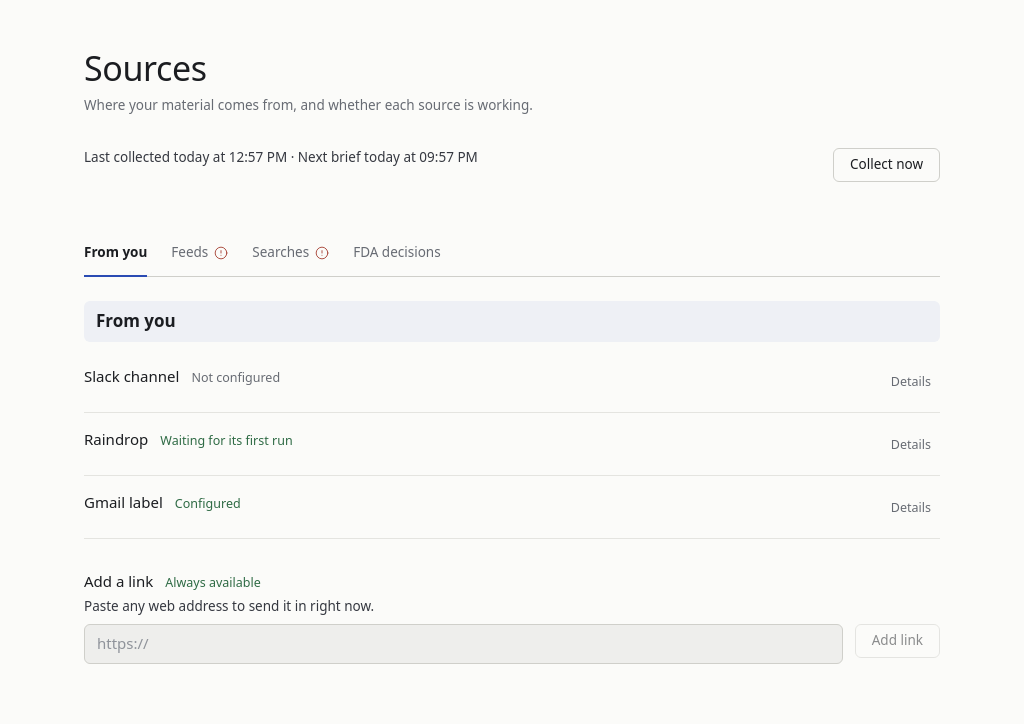
Test: SourcesPage › replaces the working feeds by one line of counts and lists them on request
Step 1. Click the tab "Feeds" → (200, 254), box [171, 231, 228, 277]
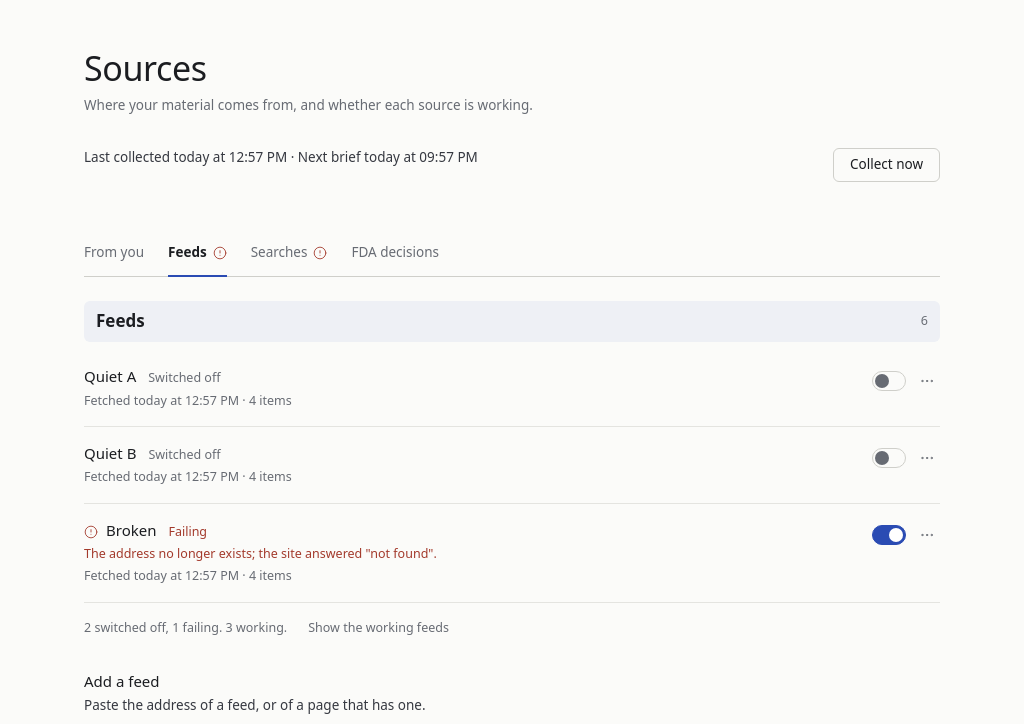
Result: the text "2 switched off, 1 failing. 3 working." is shown at [84, 620, 287, 638]
Result: the text "Broken" is shown at [84, 520, 156, 541]
Result: the text "Quiet A" is shown at [84, 366, 136, 388]
Step 2. Click the button "Show the working feeds" → (379, 628), box [299, 614, 458, 642]
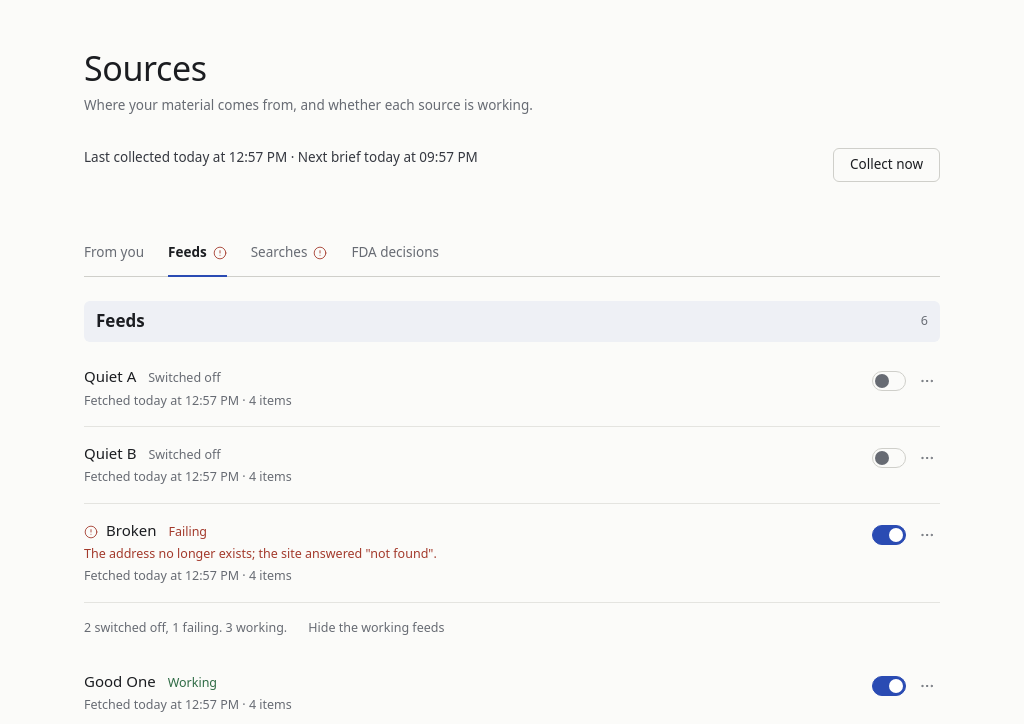
Result: the text "Good One" is shown at [84, 670, 156, 692]
Step 3. Click the button "Hide the working feeds" → (376, 628), box [299, 614, 453, 642]
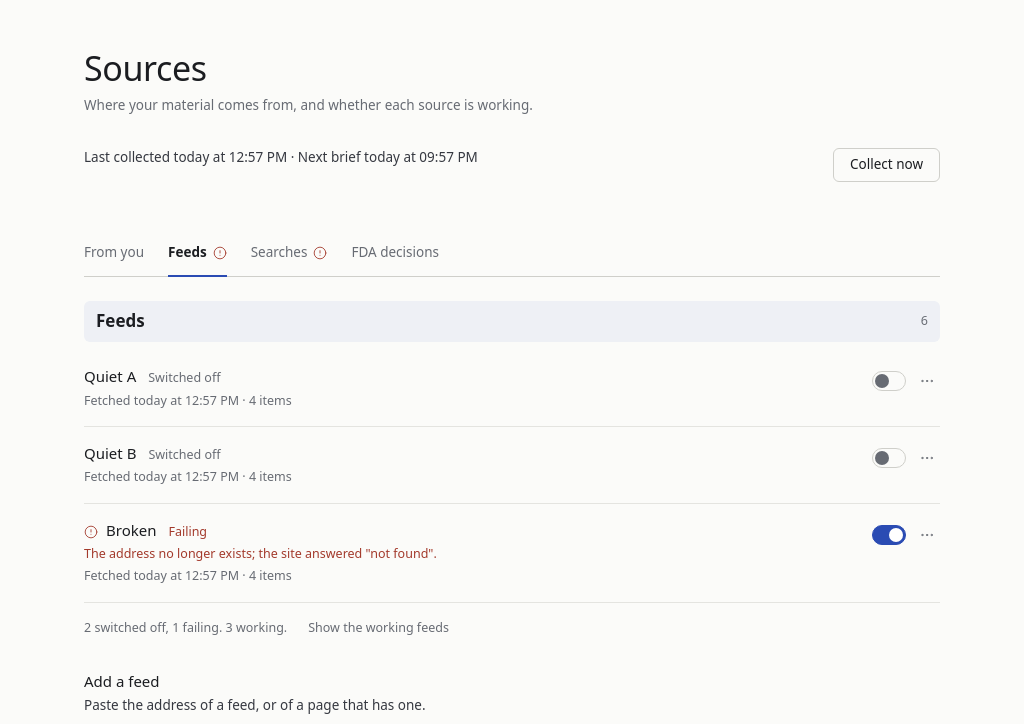
Result: the text "Good One" is gone
